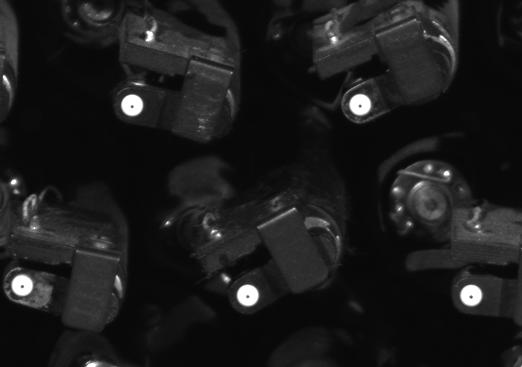fiber: (232, 279, 268, 308), (345, 90, 377, 122), (7, 271, 41, 301), (456, 280, 489, 310), (114, 92, 150, 119)
